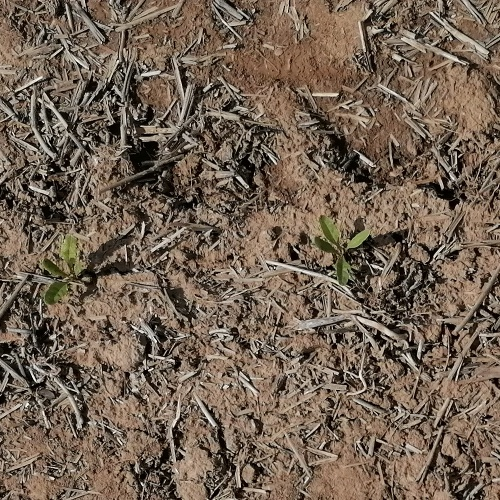beet: (315, 215, 370, 286), (38, 233, 85, 306)
